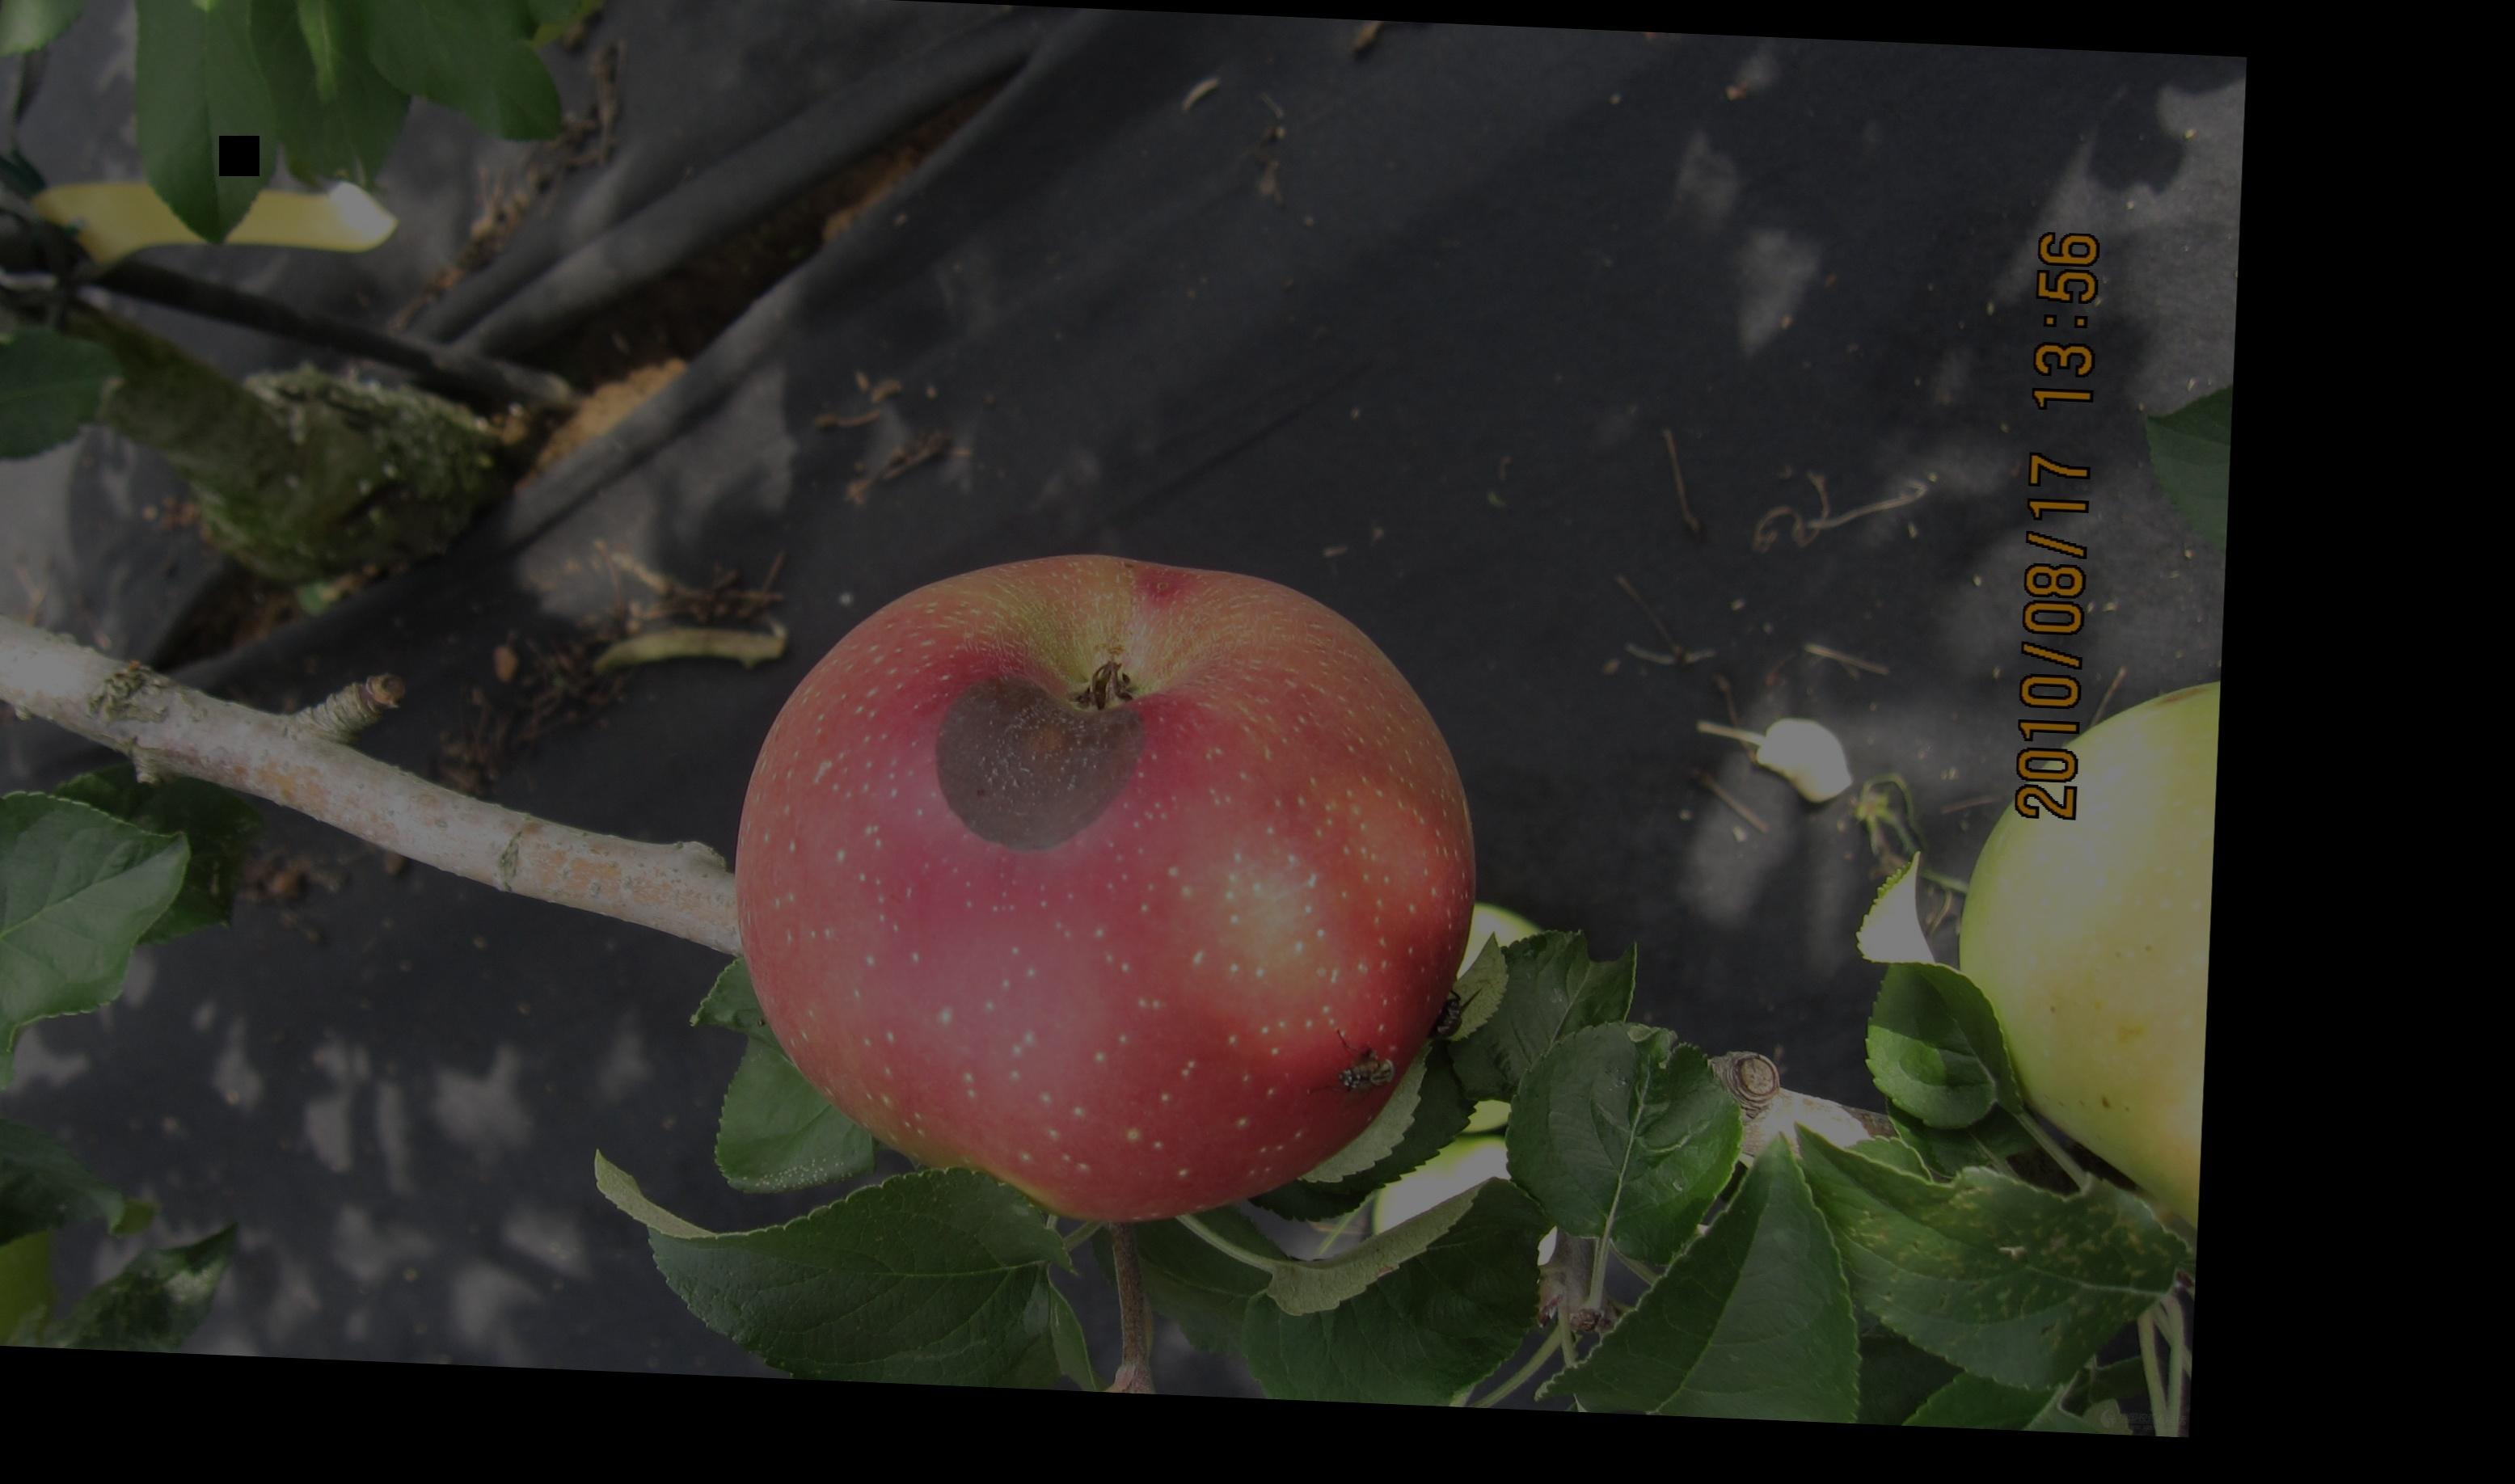rotten apple: (722, 544, 1501, 1221)
